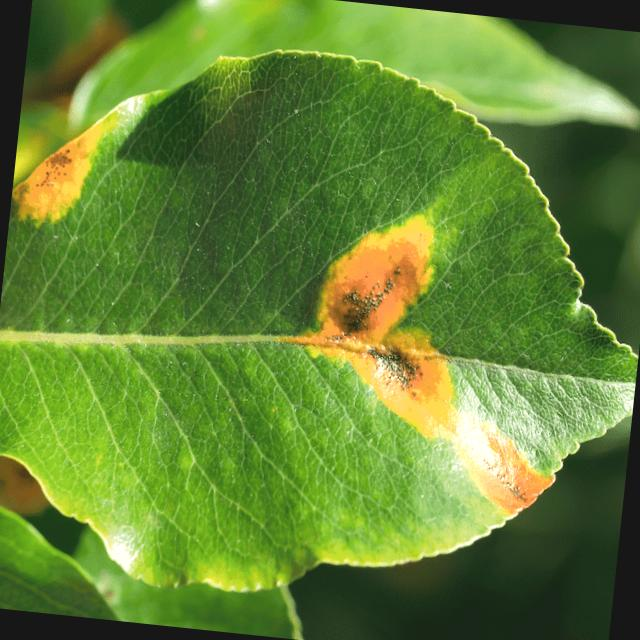leaf_rust: (0, 50, 637, 589)
